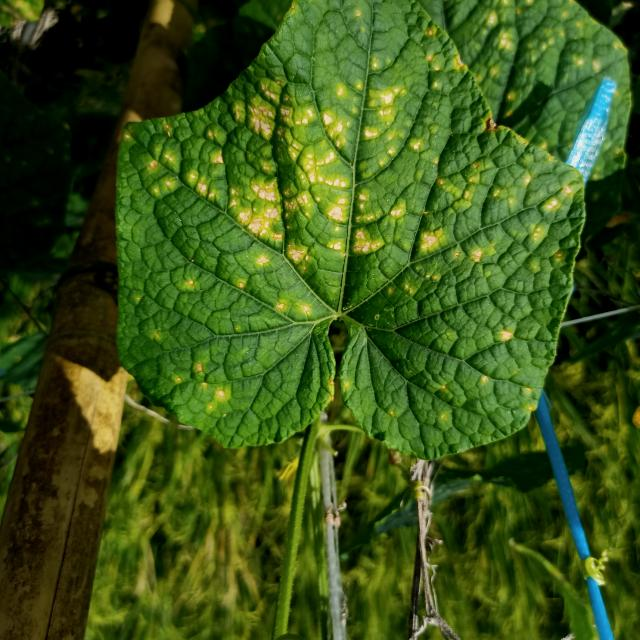disease_cucumber: (144, 36, 582, 424)
